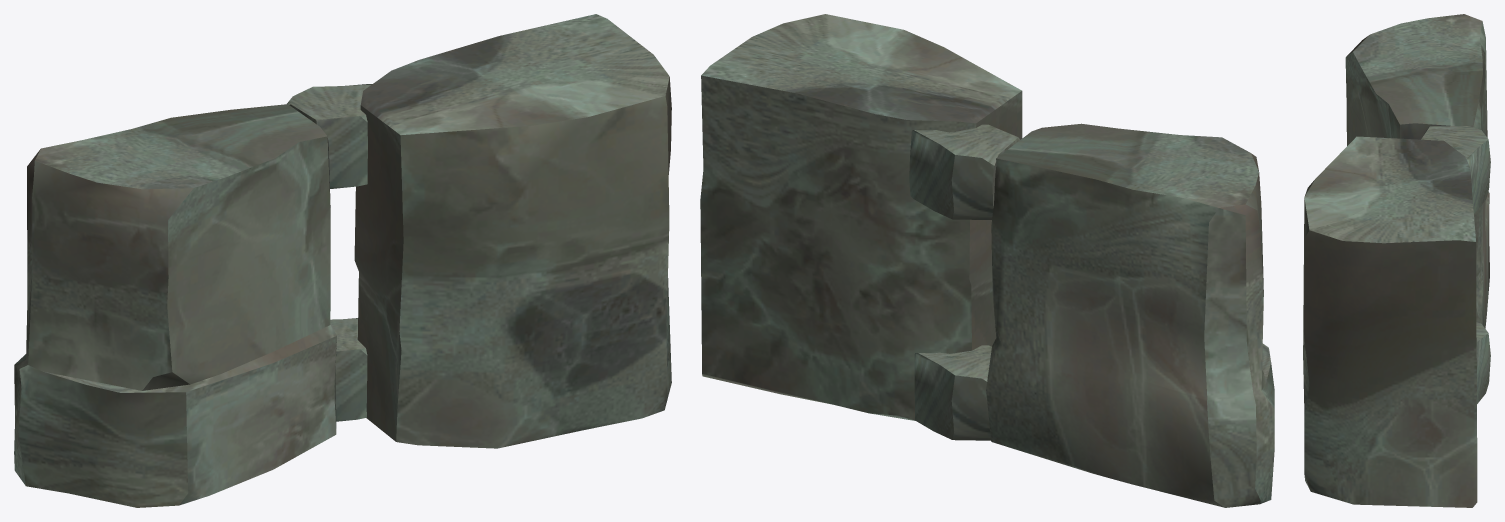
File: Ruins_Wall_DMG_Edge_Bot_A.fbx
The picture shows the model from 3 angles, left to right: view 1: azimuth 30°, elevation 25°; view 2: azimuth 150°, elevation 25°; view 3: azimuth 270°, elevation 25°; orthographic projection. The views are drawn at different scales.
Visible parts, largest first — view 1: Ruins_Wall_DMG_Edge_Bot_A; view 2: Ruins_Wall_DMG_Edge_Bot_A; view 3: Ruins_Wall_DMG_Edge_Bot_A.
Boxes of the visible parts, x1,y1,x2,y2 form: Ruins_Wall_DMG_Edge_Bot_A: [14, 14, 671, 507]; Ruins_Wall_DMG_Edge_Bot_A: [700, 14, 1274, 507]; Ruins_Wall_DMG_Edge_Bot_A: [1303, 14, 1490, 507].
Bounding box in the file's own units: 541 × 281 × 178.
